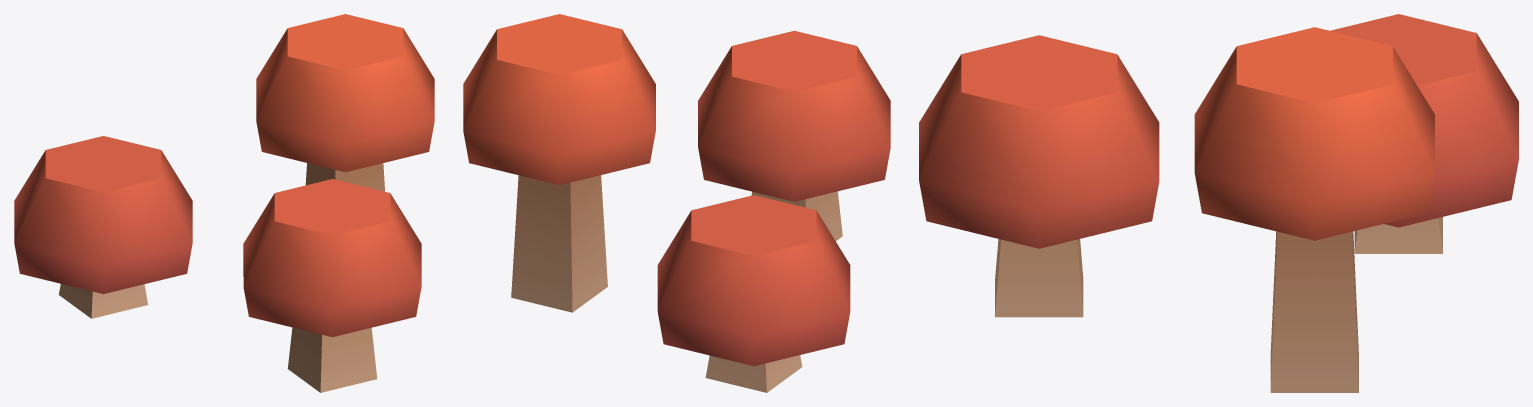
File: kenney-platformer-mushrooms.glb
The picture shows the model from 3 angles, left to right: view 1: azimuth 30°, elevation 25°; view 2: azimuth 150°, elevation 25°; view 3: azimuth 270°, elevation 25°; orthographic projection. The views are drawn at different scales.
Parts seen in each view (by area): view 1: mushrooms; view 2: mushrooms; view 3: mushrooms.
Part boxes in pixels (x1,y1,x2,y2): mushrooms: [14, 14, 434, 392]; mushrooms: [463, 14, 890, 392]; mushrooms: [919, 14, 1518, 392].
Bounding box in the file's own units: 0.5242 × 0.295 × 0.5188.
Materials: 1 (1 with a texture image).
